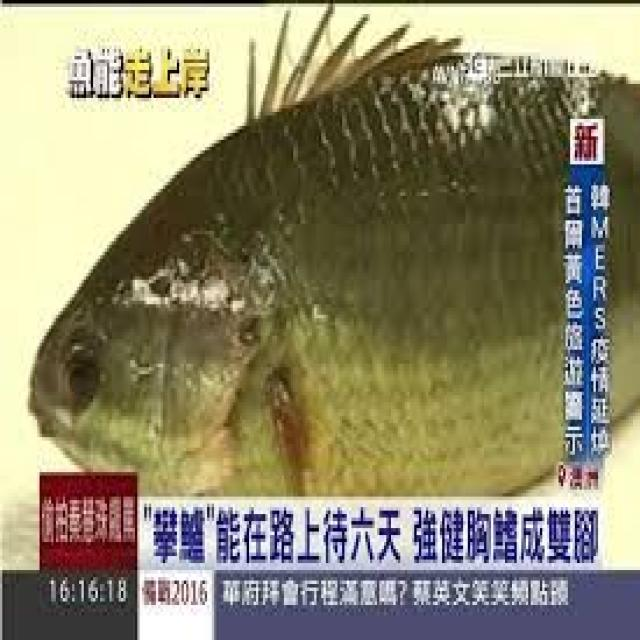Climbing-Perch: (26, 30, 640, 534)
